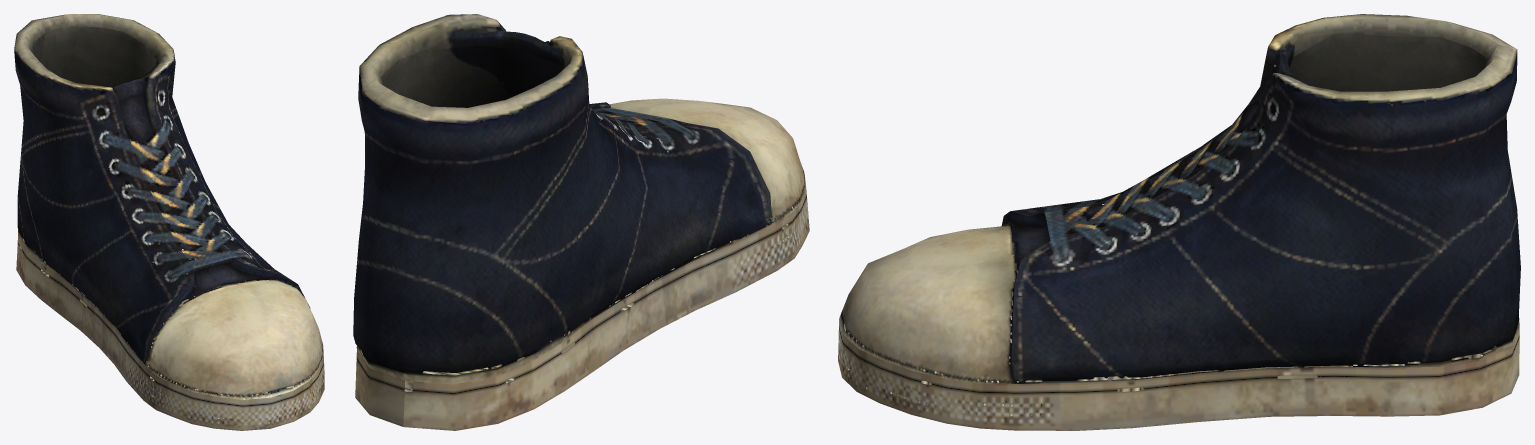
File: shoe_sneaker.dae
3 views of the same model, side by side, from view 1: azimuth 30°, elevation 25°; view 2: azimuth 150°, elevation 25°; view 3: azimuth 270°, elevation 25° (orthographic). The views are drawn at different scales.
Parts seen in each view (by area): view 1: shoe_sneaker; view 2: shoe_sneaker; view 3: shoe_sneaker.
Part boxes in pixels (x1=…): shoe_sneaker: x1=14, y1=14, x2=324, y2=430; shoe_sneaker: x1=353, y1=14, x2=809, y2=430; shoe_sneaker: x1=838, y1=14, x2=1520, y2=430.
Bounding box in the file's own units: 0.2364 × 0.3085 × 0.5903.
